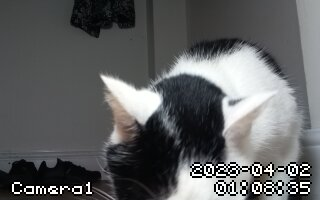bad: (97, 32, 304, 195)
